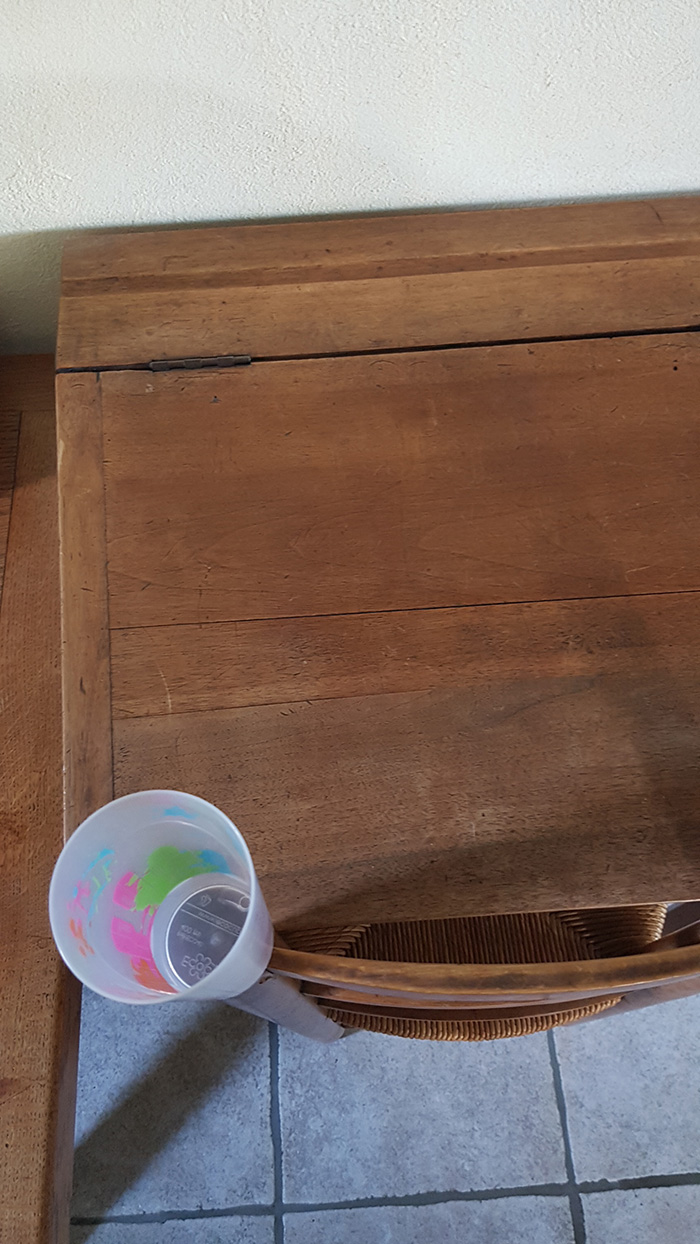ecocup: (48, 788, 275, 1007)
